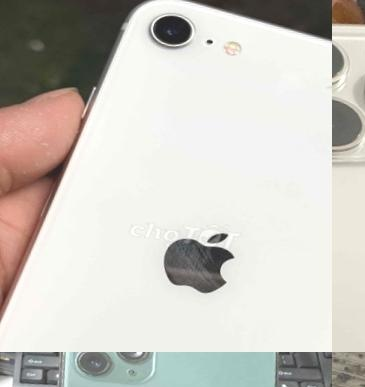physical_damage: (352, 352, 365, 387)
scratch: (327, 75, 332, 93)
